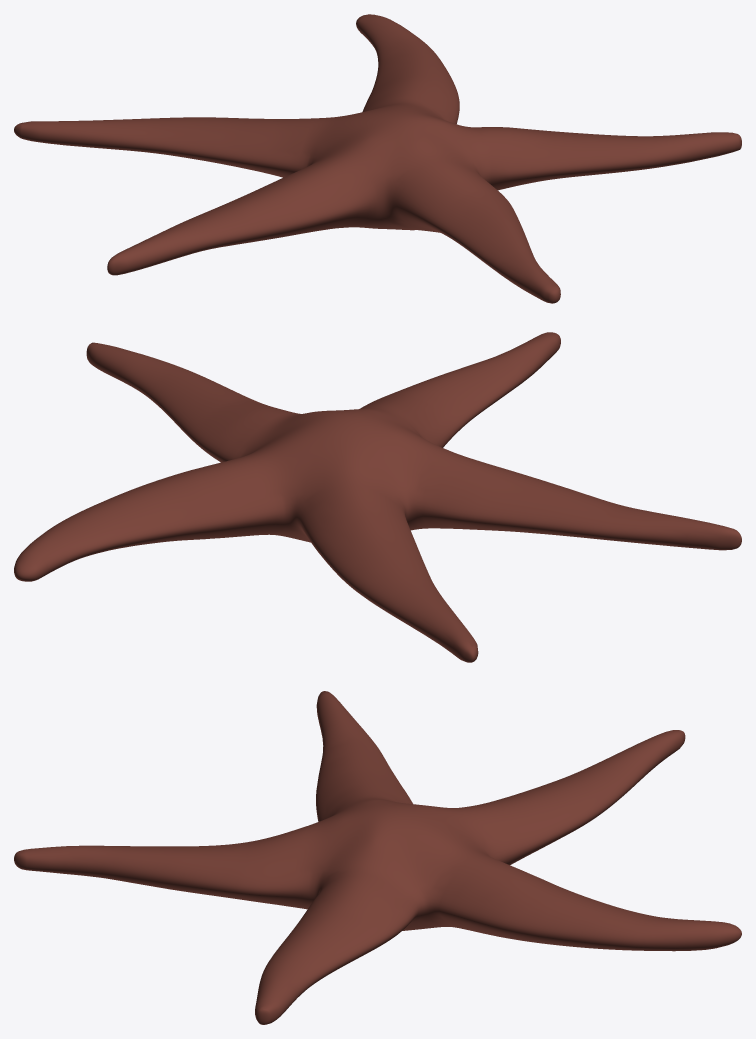
File: seastar.fbx
The picture shows the model from 3 angles, top to bottom: view 1: azimuth 30°, elevation 25°; view 2: azimuth 150°, elevation 25°; view 3: azimuth 270°, elevation 25°; orthographic projection. The views are drawn at different scales.
Parts seen in each view (by area): view 1: pDisc1; view 2: pDisc1; view 3: pDisc1.
Part boxes in pixels (box(x1,y1,x2,y2)): pDisc1: box(14, 14, 741, 303); pDisc1: box(14, 332, 741, 662); pDisc1: box(14, 691, 741, 1024).
Bounding box in the file's own units: 12.07 × 1.96 × 11.56.
